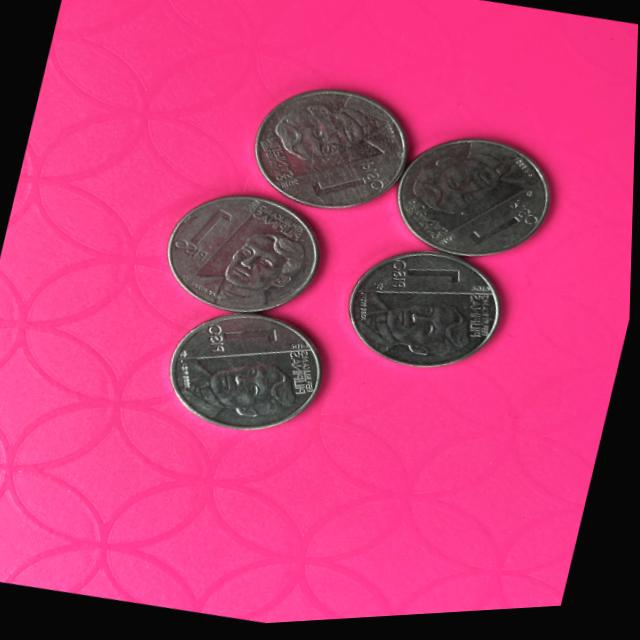1_New_Front: (378, 250, 469, 312), (456, 196, 536, 266), (306, 151, 389, 217), (197, 310, 287, 370), (166, 199, 239, 268)
